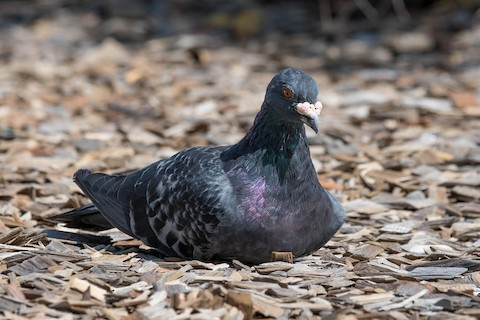pigeon: (69, 61, 349, 268)
